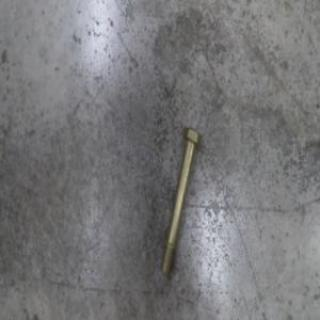Bolttrack_idkeyframe: (159, 123, 200, 276)
